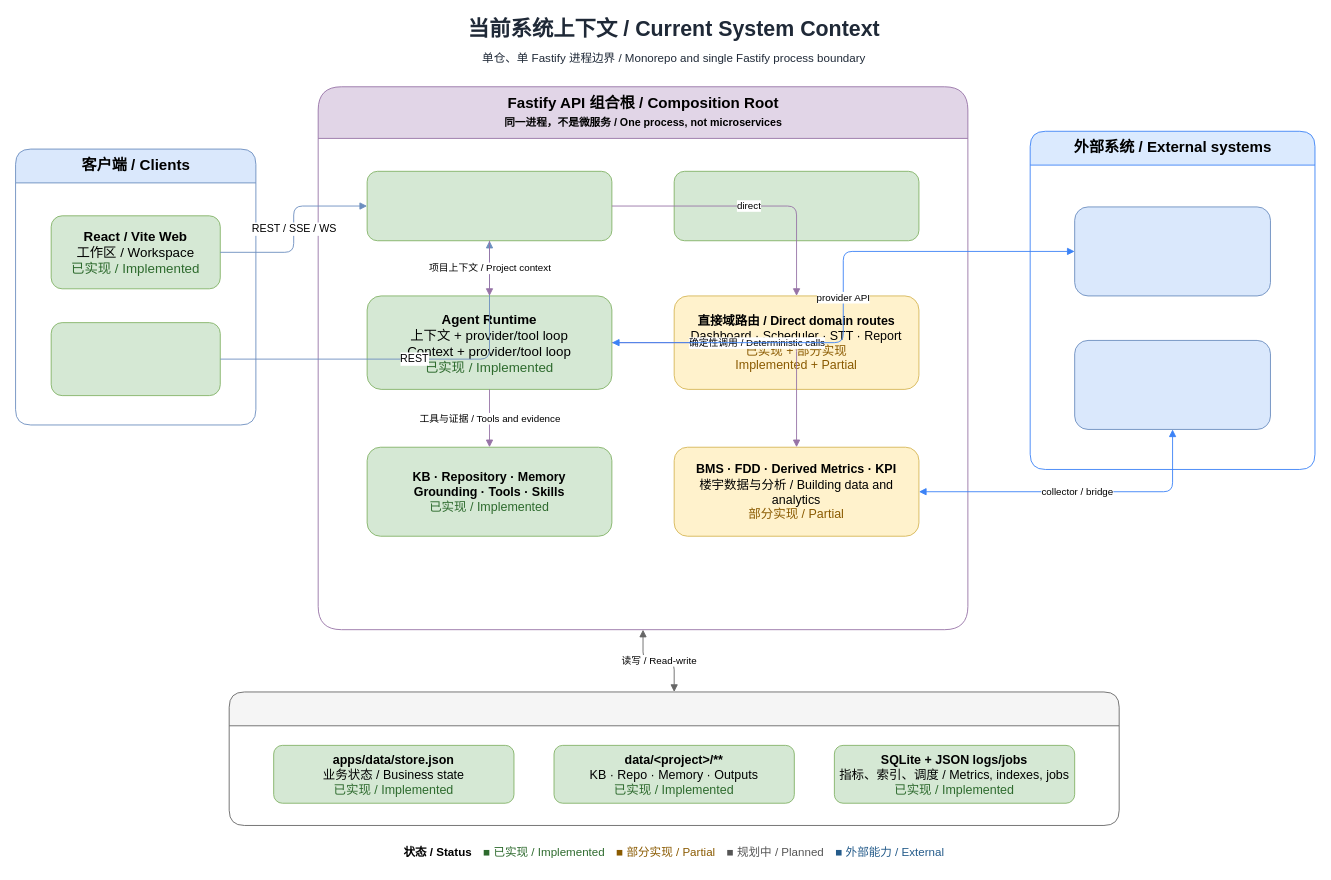
Image size: 1331x880. Some labels were removed from this diagram. Here are the shapes that lost their labels. From the top down, the box of each, then its label:
(366, 170, 612, 241): 鉴权 + 项目隔离 Auth + project isolation 已实现 / Implemented
(673, 170, 919, 241): REST + SSE + WebSocket 路由与事件 / Routes and events 已实现 / Implemented
(1074, 206, 1270, 296): LLM Provider mock 或 OpenAI-compatible mock or OpenAI-compatible 外部能力 / External
(50, 322, 220, 396): Node CLI login / use / chat / registry 已实现 / Implemented
(1074, 340, 1270, 429): BMS / Collector 点位、时序、现场连接 Points, series, site connection 外部能力 / External
(228, 691, 1119, 825): 本地持久化 / Local persistence
